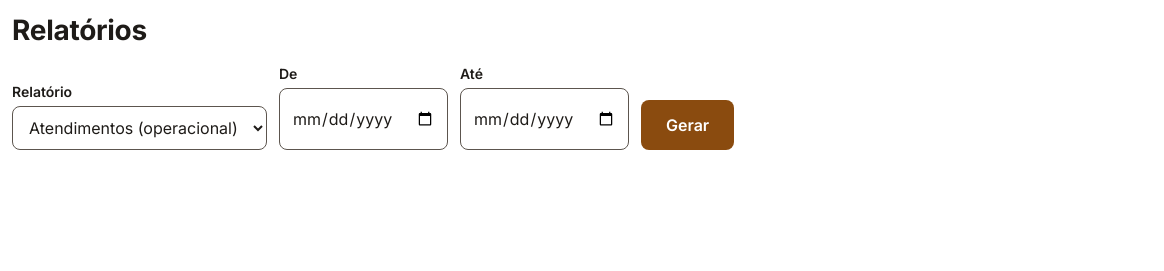
Test case: UC-18 · Relatórios na web › CT-18-02: deve mostrar o bloqueio quando falta permissão
Select "Financeiro (gerencial)" in the dropdown labelled "Relatório". click: (140, 128)
box: [12,106,267,150]
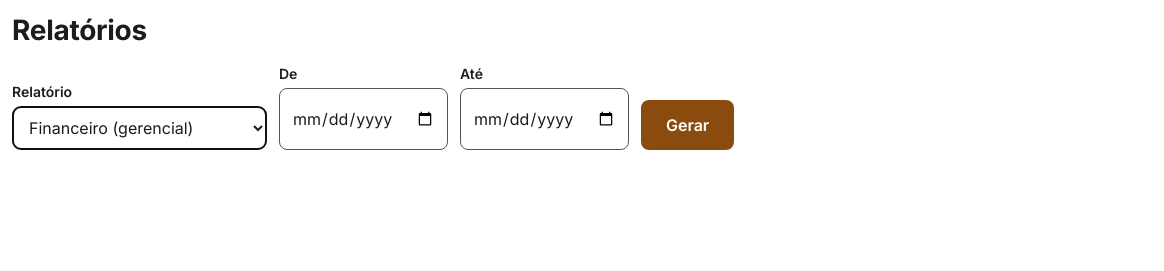
Type "2026-11-01" into the date field labelled "De". click: (364, 119)
box: [279,88,448,150]
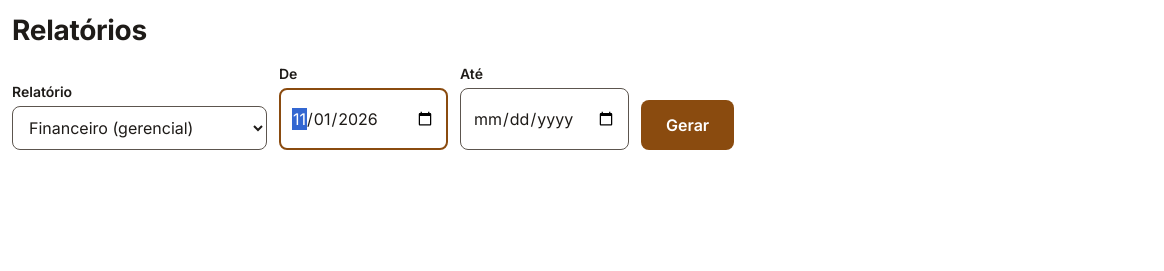
Type "2026-11-30" into the date field labelled "Até". click: (544, 119)
box: [460,88,629,150]
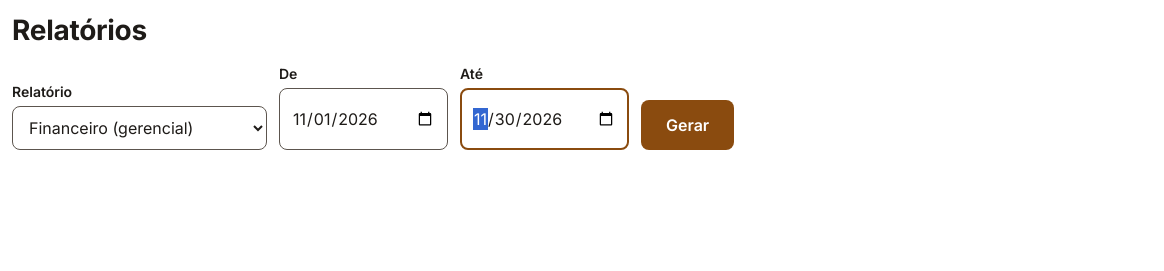
Click the button "Gerar". click: (688, 125)
box: [641,100,734,150]
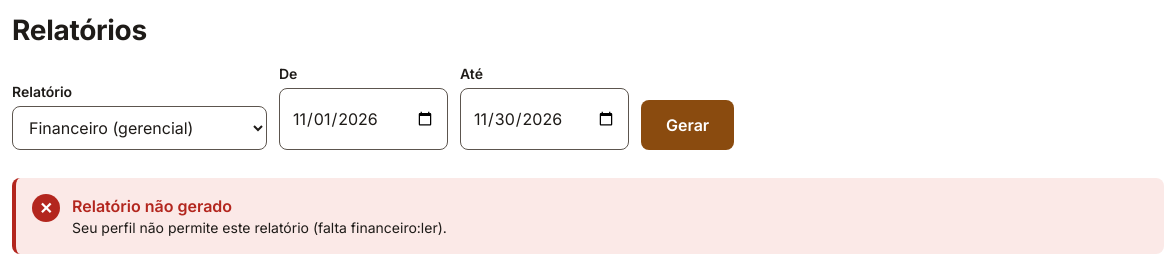
Expected: the text "falta financeiro:ler" is shown, [72,219,447,236]
